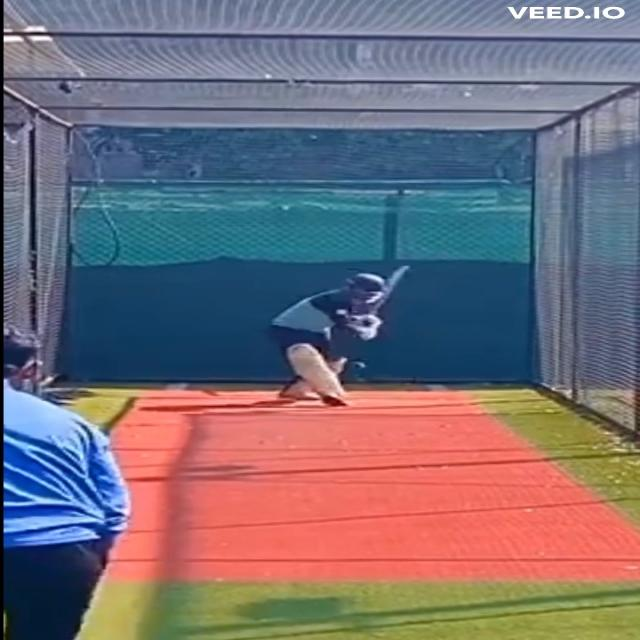ball: (353, 358, 370, 372)
